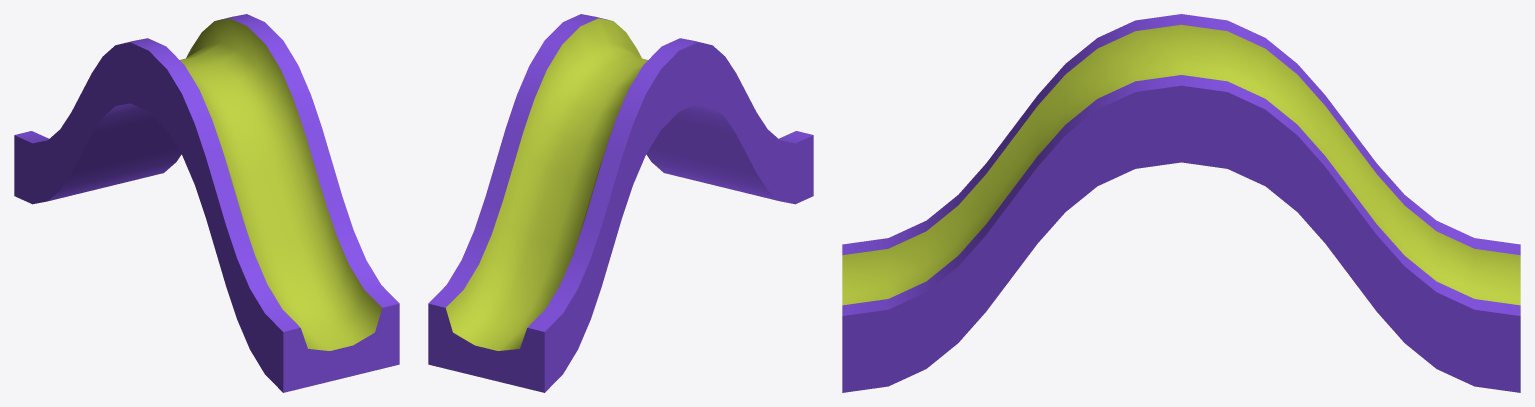
The model's file is bump_D-col.dae.
The picture shows the model from 3 angles, left to right: view 1: azimuth 30°, elevation 25°; view 2: azimuth 150°, elevation 25°; view 3: azimuth 270°, elevation 25°; orthographic projection. The views are drawn at different scales.
Visible parts, largest first — view 1: bump_D-col; view 2: bump_D-col; view 3: bump_D-col.
Boxes of the visible parts, x1=… form: bump_D-col: x1=14, y1=14, x2=399, y2=392; bump_D-col: x1=428, y1=14, x2=813, y2=392; bump_D-col: x1=842, y1=14, x2=1520, y2=392.
Bounding box in the file's own units: 1 × 4 × 2.
